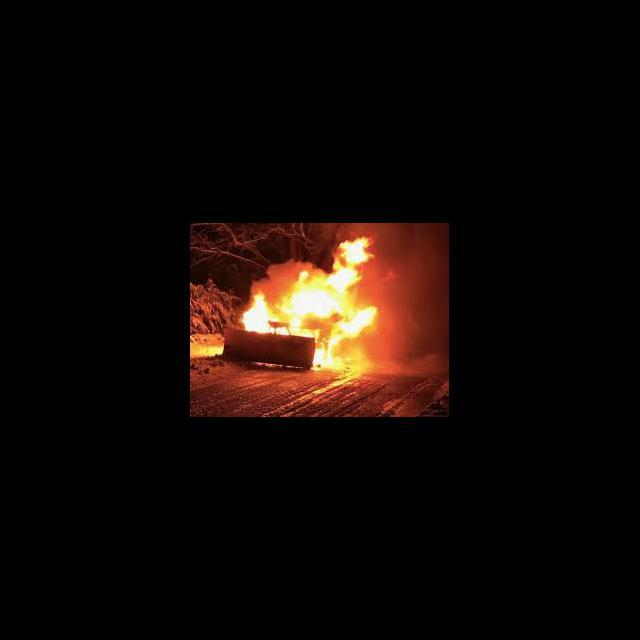Fire: (247, 236, 378, 378)
Smoke: (380, 225, 450, 374)
